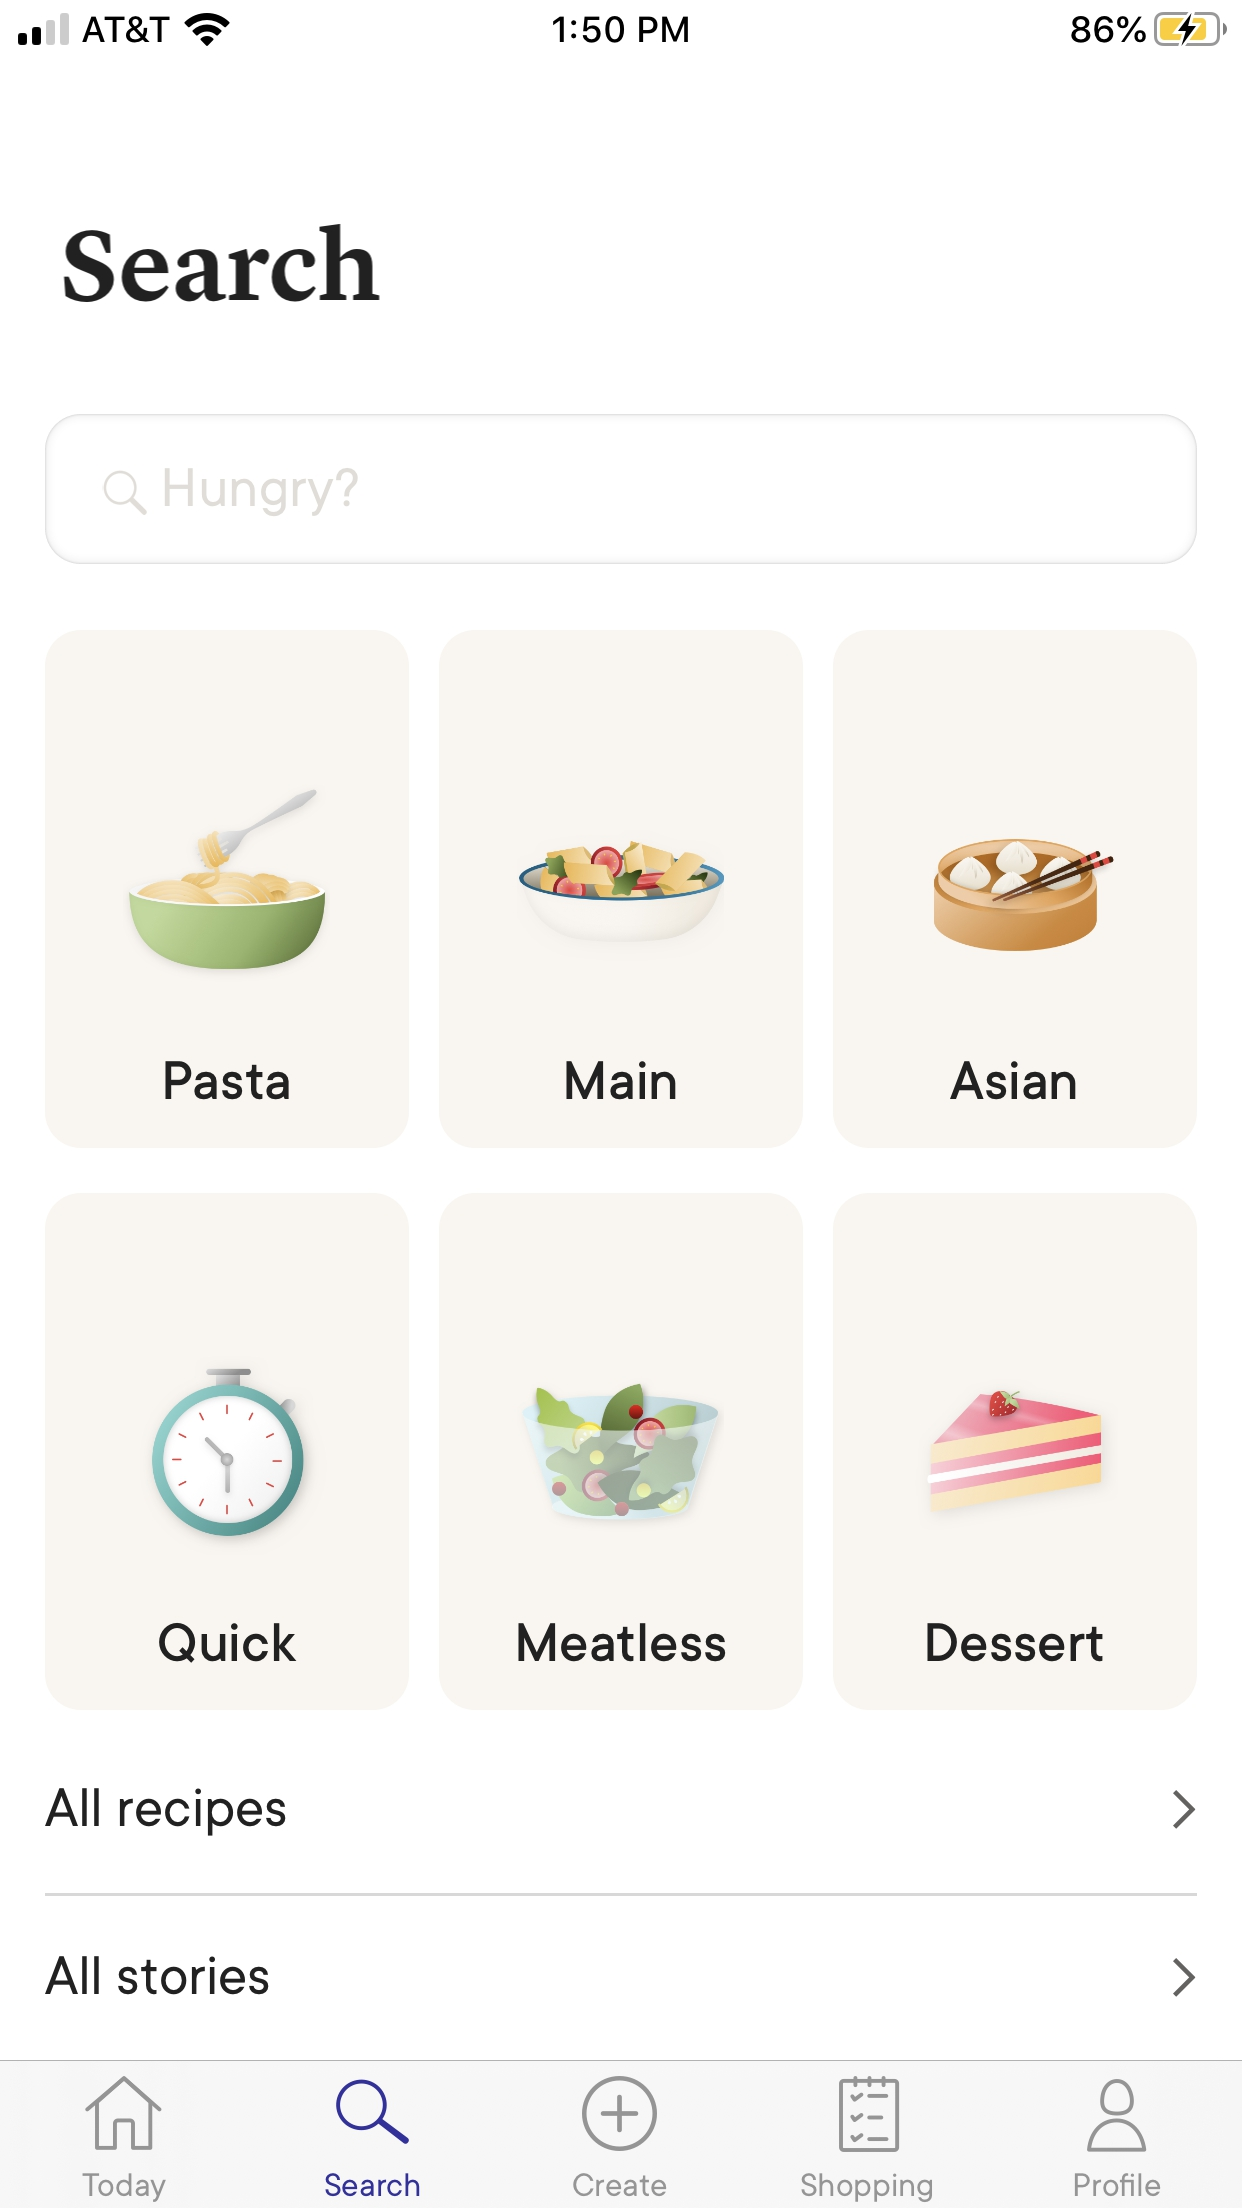EditText: (45, 414, 1198, 566)
Icon: (582, 2076, 658, 2150), (86, 2079, 162, 2150), (337, 2079, 409, 2144), (839, 2076, 899, 2152), (1086, 2079, 1146, 2152), (105, 472, 149, 517), (1172, 1958, 1195, 1997), (1172, 1789, 1195, 1829)
Image: (833, 629, 1198, 1149), (438, 629, 804, 1149), (45, 629, 409, 1149), (438, 1193, 804, 1711), (833, 1193, 1197, 1711), (45, 1193, 409, 1711)
Text: (64, 223, 381, 303), (45, 1788, 287, 1836), (164, 469, 359, 517), (45, 1955, 268, 1996), (519, 1623, 725, 1662), (927, 1623, 1106, 1662), (161, 1623, 299, 1664), (949, 1062, 1077, 1101), (165, 1060, 290, 1099), (566, 1060, 678, 1099), (801, 2173, 933, 2202), (83, 2172, 167, 2202), (326, 2173, 420, 2196), (575, 2173, 667, 2196), (1075, 2173, 1162, 2196)
UpperTaskBar: (2, 2, 1242, 49)
